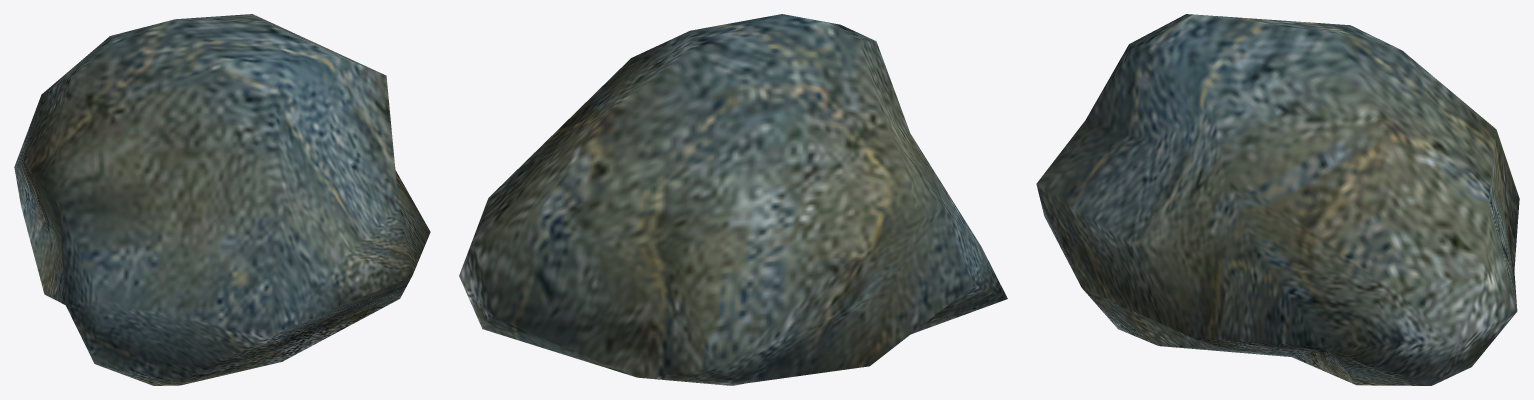
The model's file is DJ_shitou.fbx.
The picture shows the model from 3 angles, left to right: view 1: azimuth 30°, elevation 25°; view 2: azimuth 150°, elevation 25°; view 3: azimuth 270°, elevation 25°; orthographic projection. The views are drawn at different scales.
Visible parts, largest first — view 1: DJ_shitou; view 2: DJ_shitou; view 3: DJ_shitou.
Boxes of the visible parts, box(x1,y1,x2,y2) form: DJ_shitou: box(14, 14, 430, 385); DJ_shitou: box(459, 14, 1007, 385); DJ_shitou: box(1036, 14, 1519, 385).
Size of the model in its own units: 1.26 by 0.8939 by 1.34.
